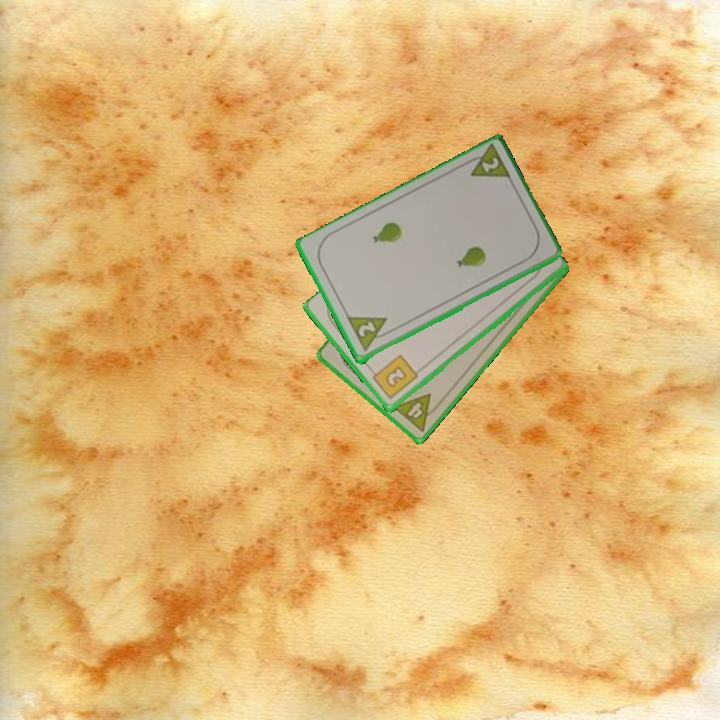2b: (367, 352, 421, 402)
2p: (460, 142, 514, 183), (344, 313, 395, 355)
4p: (389, 390, 444, 435)
